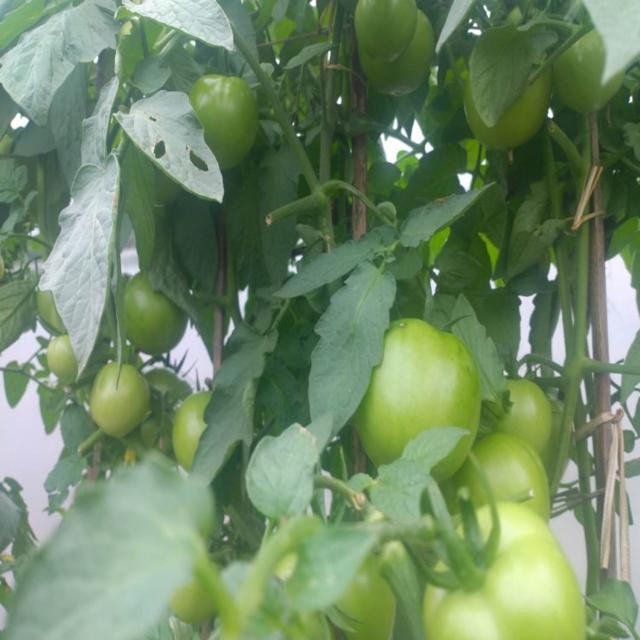tomato: (431, 505, 576, 640), (357, 310, 465, 470), (460, 431, 556, 510), (355, 16, 435, 98), (482, 371, 557, 452), (192, 74, 255, 168), (554, 33, 627, 113), (459, 81, 548, 145), (122, 273, 189, 357), (94, 358, 154, 431), (350, 1, 425, 55), (173, 386, 218, 459), (42, 336, 90, 384), (37, 282, 69, 331)
